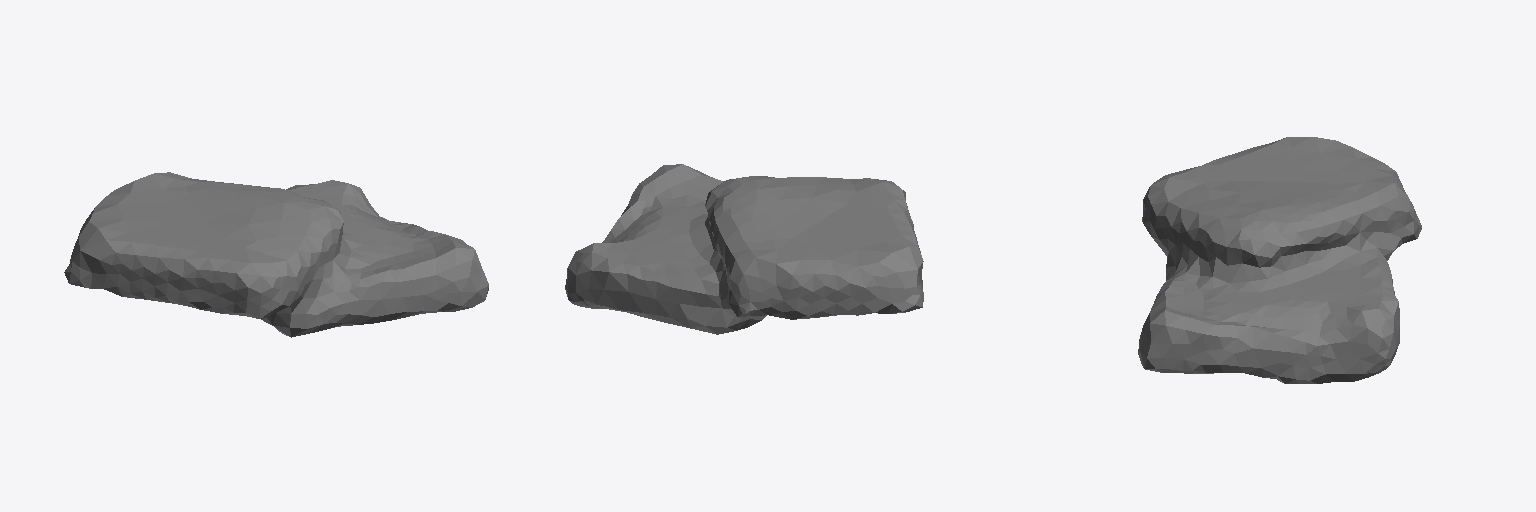
The model's file is StonePlatform_C.obj.
3 renders of one model, left to right at view 1: azimuth 30°, elevation 25°; view 2: azimuth 150°, elevation 25°; view 3: azimuth 270°, elevation 25°, orthographic.
Parts seen in each view (by area): view 1: Stone_C; view 2: Stone_C; view 3: Stone_C.
Part boxes in pixels (bbox=[...]): Stone_C: bbox=[64, 172, 488, 337]; Stone_C: bbox=[565, 164, 923, 334]; Stone_C: bbox=[1138, 137, 1421, 383].
Size of the model in its own units: 20.11 by 6.23 by 14.46.